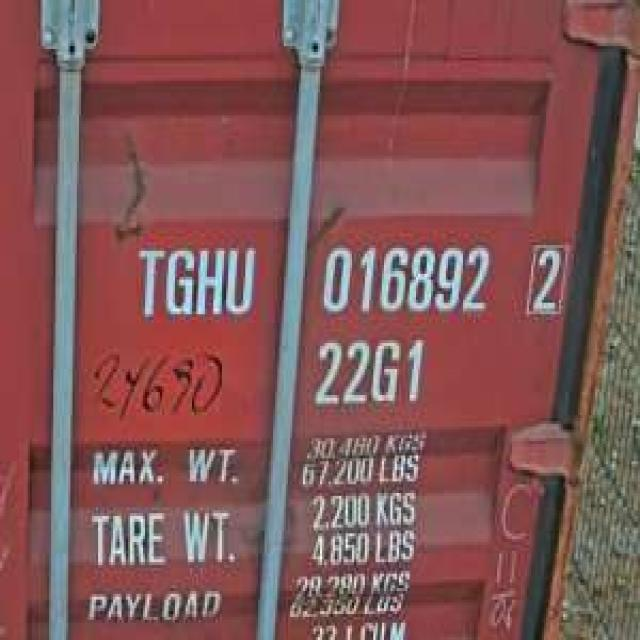dv: (520, 236, 572, 323)
owner: (132, 236, 258, 329)
serial: (311, 233, 495, 323)
size: (309, 332, 427, 415)
